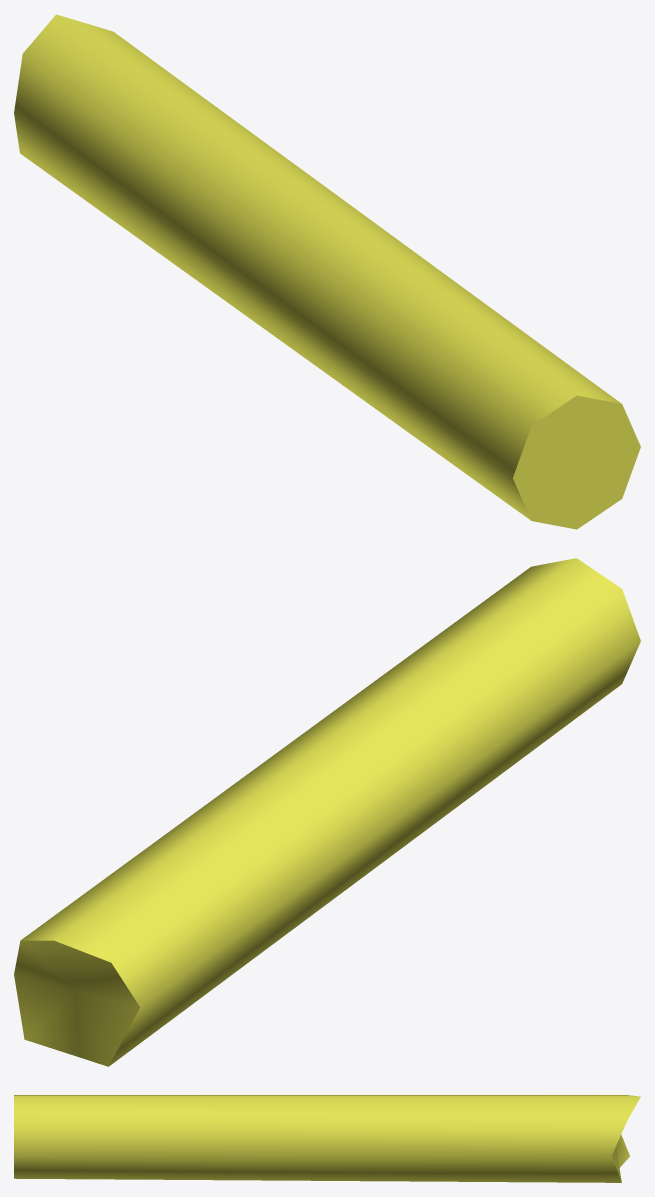
Rendered from Tiza 2.fbx.
3 renders of one model, top to bottom at view 1: azimuth 30°, elevation 25°; view 2: azimuth 150°, elevation 25°; view 3: azimuth 270°, elevation 25°, orthographic. The views are drawn at different scales.
Visible parts, largest first — view 1: Tiza_2; view 2: Tiza_2; view 3: Tiza_2.
Boxes of the visible parts, x1,y1,x2,y2 form: Tiza_2: (14,14,640,529); Tiza_2: (14,558,640,1066); Tiza_2: (14,1095,640,1182).
Bounding box in the file's own units: 0.02 × 0.02 × 0.1407.
